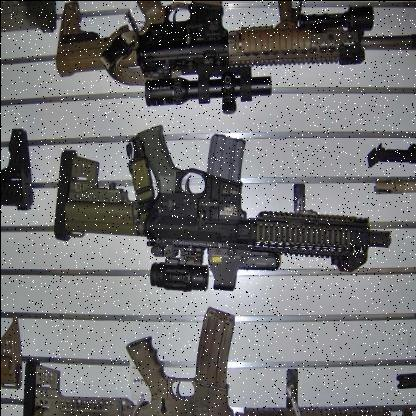rifle: (39, 112, 409, 288), (38, 1, 416, 117)
